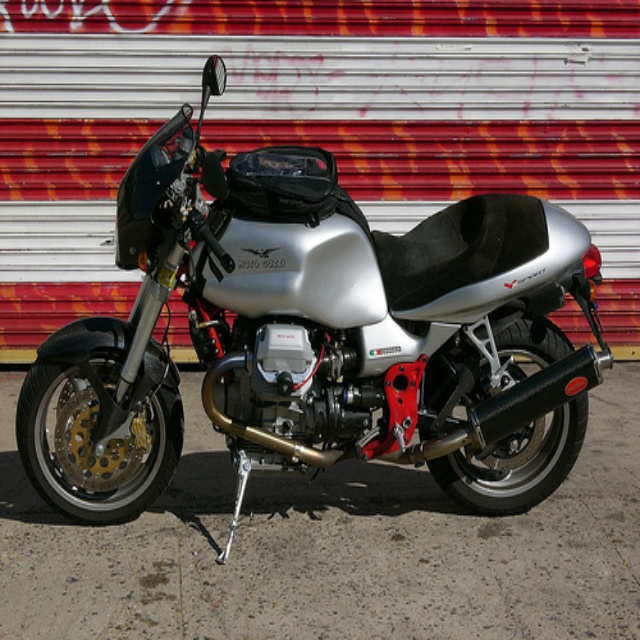Motorcycle: (15, 56, 613, 527)
